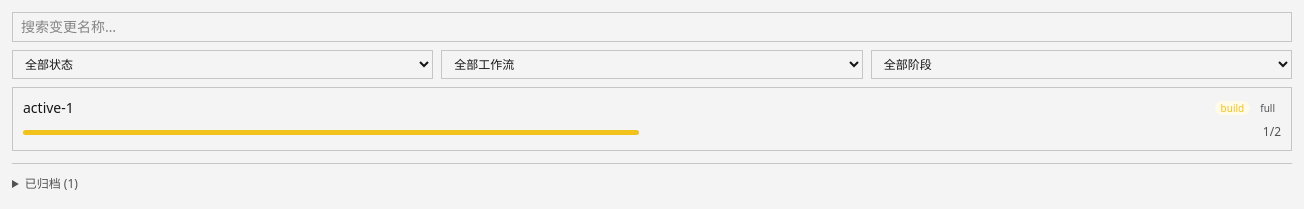
ChangeExplorer › filters by status using the status select, spanning both active and archived groups
The width and height of the screenshot is (1304, 209).
Select "已归档" in the dropdown named "状态": (223, 64) [12,50,433,79]
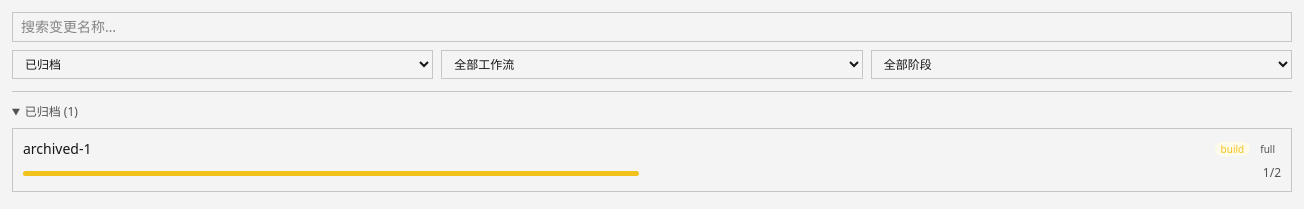
Now the text "active-1" is gone
Now the text "archived-1" is shown, box [23,139,92,159]
